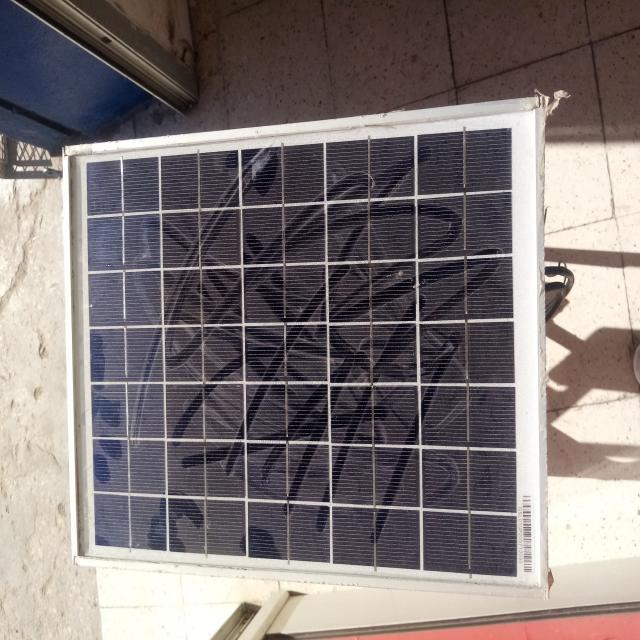faulty: (71, 103, 546, 581)
